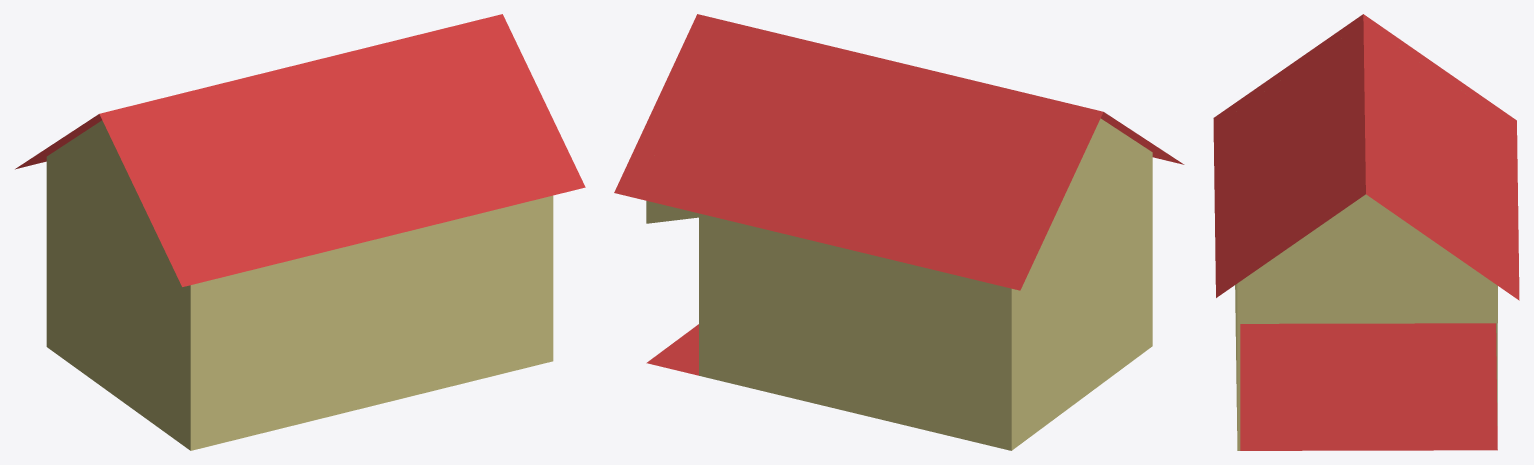
3 views of the same model, side by side, from view 1: azimuth 30°, elevation 25°; view 2: azimuth 150°, elevation 25°; view 3: azimuth 270°, elevation 25° (orthographic). The views are drawn at different scales.
Bounding box in the file's own units: 19.89 × 14.21 × 13.6.
